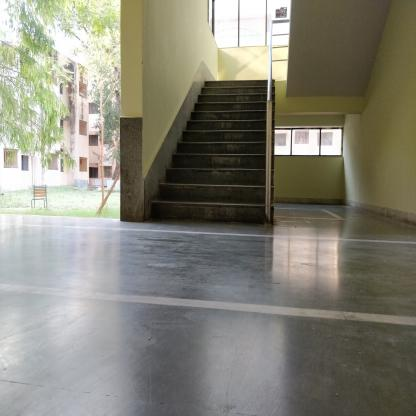stairs: (206, 80, 265, 229)
